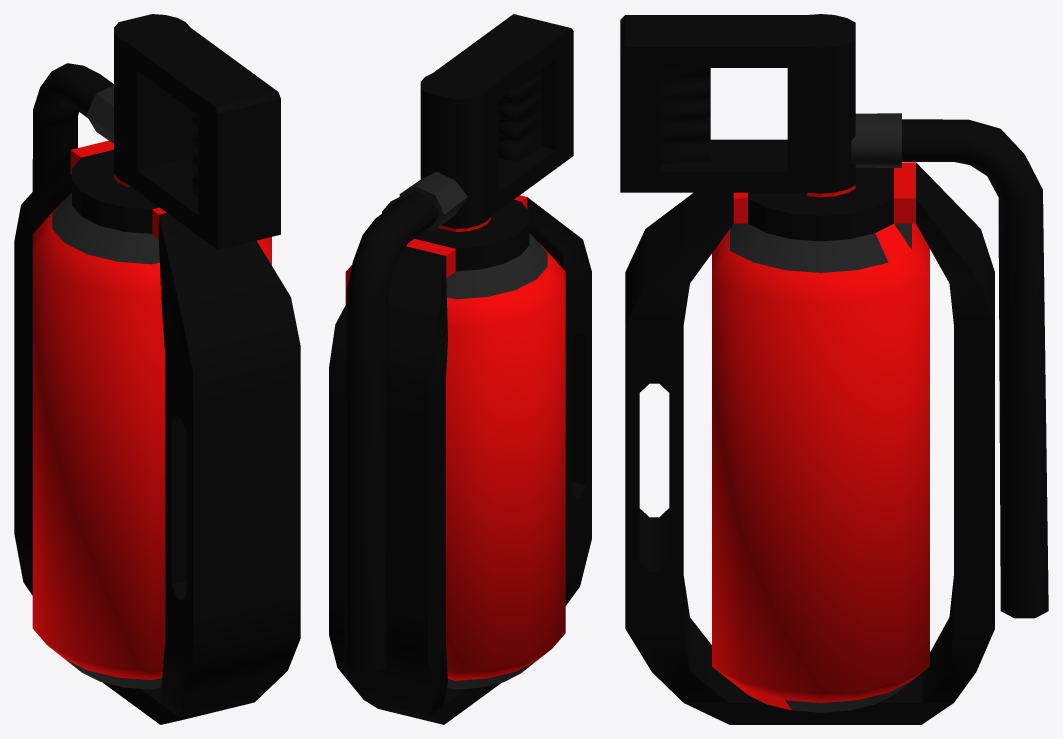
Rendered from extintor.obj.
The picture shows the model from 3 angles, left to right: view 1: azimuth 30°, elevation 25°; view 2: azimuth 150°, elevation 25°; view 3: azimuth 270°, elevation 25°; orthographic projection. The views are drawn at different scales.
Parts seen in each view (by area): view 1: Cylinder001; view 2: Cylinder001; view 3: Cylinder001.
Boxes of the visible parts, box(x1,y1,x2,y2) form: Cylinder001: box(14, 14, 300, 724); Cylinder001: box(329, 14, 591, 724); Cylinder001: box(620, 14, 1048, 724).
Bounding box in the file's own units: 27.74 × 82.24 × 47.25.
